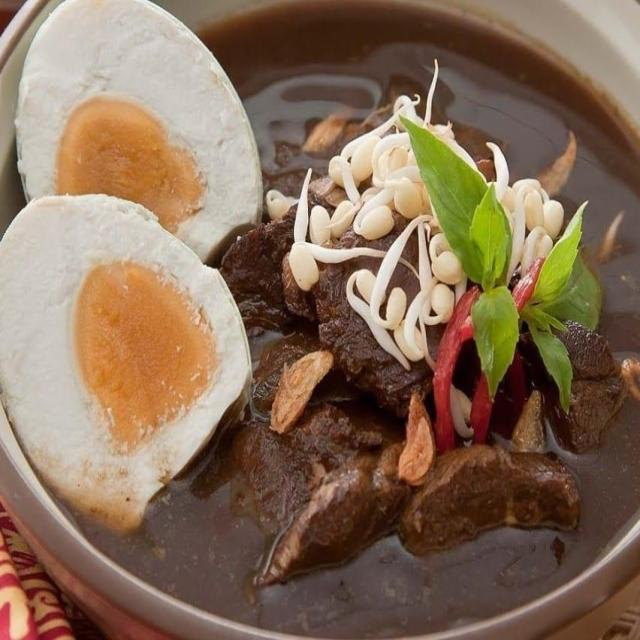Rawon: (26, 0, 634, 607)
